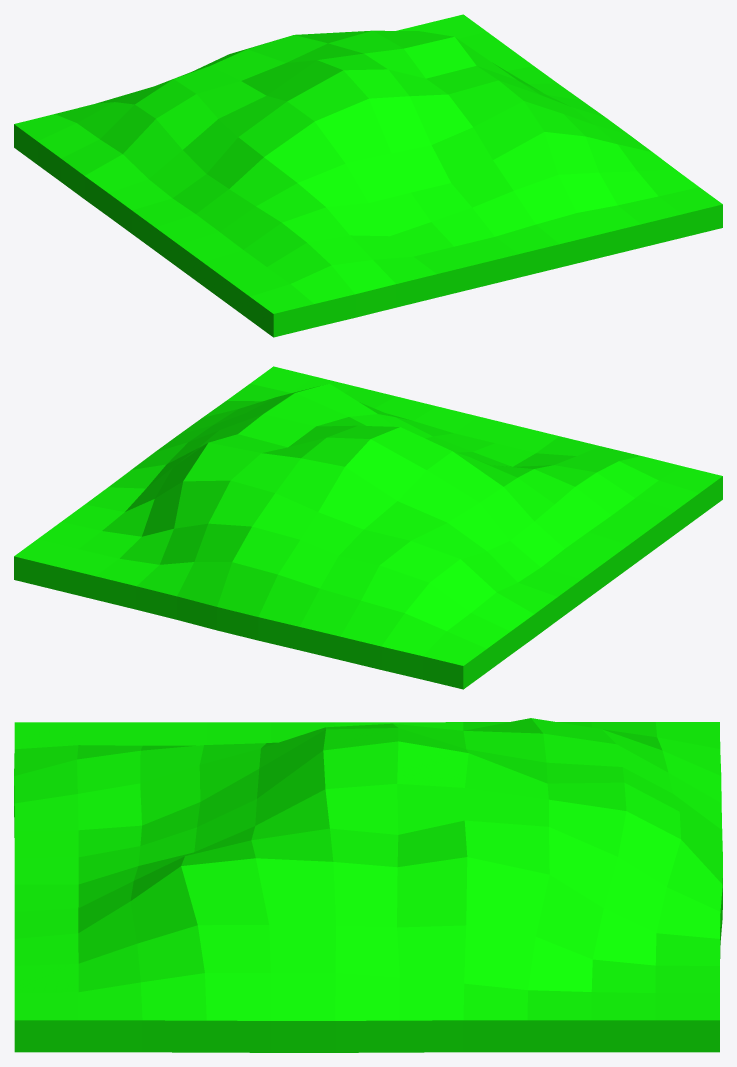
File: plainsHills_export.fbx
3 views of the same model, one above another, from view 1: azimuth 30°, elevation 25°; view 2: azimuth 150°, elevation 25°; view 3: azimuth 270°, elevation 25° (orthographic). The views are drawn at different scales.
Visible parts, largest first — view 1: Cube.001; view 2: Cube.001; view 3: Cube.001.
Part boxes in pixels (<box>): Cube.001: <box>14,14,722,337</box>; Cube.001: <box>14,366,722,689</box>; Cube.001: <box>14,718,722,1052</box>.
Bounding box in the file's own units: 2006 × 478 × 2011.
